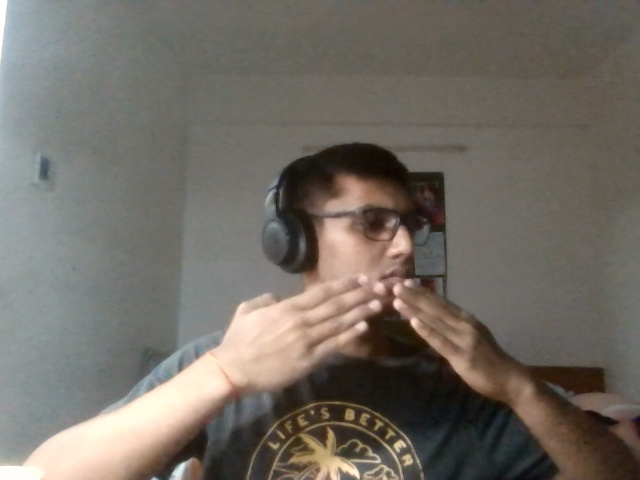thankyou: (221, 277, 531, 406)
